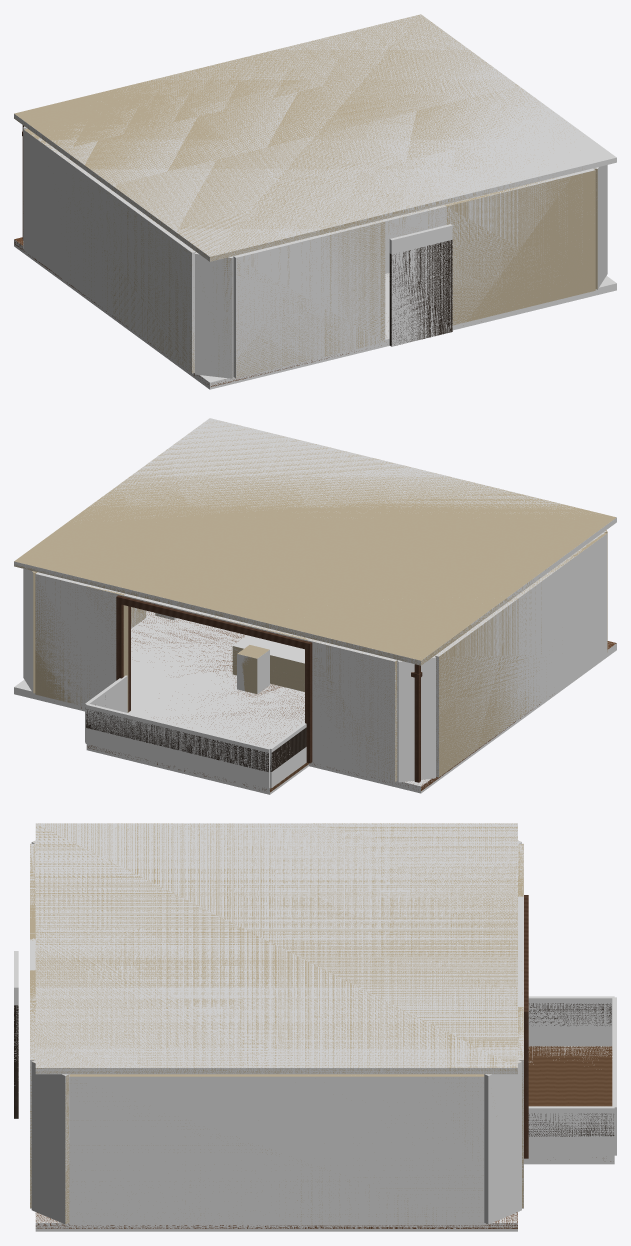
The model's file is corner.glb.
3 views of the same model, one above another, from view 1: azimuth 30°, elevation 25°; view 2: azimuth 150°, elevation 25°; view 3: azimuth 270°, elevation 25° (orthographic). The views are drawn at different scales.
Visible parts, largest first — view 1: COL_A07_roof, VIS_A07, VIS_A03, COL_A03_side, COL_A03_wall.002, COL_A03_wall.003, COL_A09_exit_boundary, COL_A03_chamfer.001, VIS_A09, COL_A01_floor, COL_A03_lintel.001, COL_A03_chamfer.003; view 2: VIS_A07, COL_A07_roof, COL_A03_side, COL_A01_floor, VIS_A03, COL_A03_wall, COL_A03_wall.001, COL_A14_guard, VIS_A12, VIS_A14, COL_A03_chamfer, COL_A13_terrace (+9 smaller); view 3: COL_A07_roof, VIS_A07, COL_A03_side.001, COL_A03_chamfer.003, COL_A03_chamfer.002, VIS_A13, COL_A14_guard.002, COL_A14_guard.001, VIS_A03, COL_A01_floor, VIS_A14, VIS_A01 (+7 smaller).
Part boxes in pixels (x1,y1,x2,y2): COL_A07_roof: [14, 14, 616, 261]; VIS_A07: [14, 14, 583, 261]; VIS_A03: [23, 128, 597, 377]; COL_A03_side: [23, 130, 195, 373]; COL_A03_wall.002: [233, 220, 385, 378]; COL_A03_wall.003: [445, 168, 595, 325]; COL_A09_exit_boundary: [389, 224, 452, 346]; COL_A03_chamfer.001: [195, 252, 233, 378]; VIS_A09: [389, 240, 452, 346]; COL_A01_floor: [14, 239, 616, 389]; COL_A03_lintel.001: [383, 205, 446, 249]; COL_A03_chamfer.003: [594, 165, 607, 289]; VIS_A07: [14, 421, 616, 665]; COL_A07_roof: [14, 418, 616, 665]; COL_A03_side: [435, 532, 607, 777]; COL_A01_floor: [14, 610, 616, 793]; VIS_A03: [32, 530, 607, 781]; COL_A03_wall: [306, 638, 397, 782]; COL_A03_wall.001: [35, 572, 125, 706]; COL_A14_guard: [85, 704, 269, 788]; VIS_A12: [116, 595, 422, 782]; VIS_A14: [85, 705, 306, 771]; COL_A03_chamfer: [397, 656, 435, 782]; COL_A13_terrace: [86, 744, 308, 794]; COL_A07_roof: [35, 823, 517, 1074]; VIS_A07: [35, 823, 517, 1073]; COL_A03_side.001: [69, 1074, 484, 1225]; COL_A03_chamfer.003: [31, 1060, 69, 1223]; COL_A03_chamfer.002: [484, 1060, 521, 1224]; VIS_A13: [528, 1046, 612, 1161]; COL_A14_guard.002: [528, 1106, 614, 1156]; COL_A14_guard.001: [528, 996, 614, 1046]; VIS_A03: [30, 840, 523, 1225]; COL_A01_floor: [35, 1212, 517, 1231]; VIS_A14: [528, 1003, 614, 1136]; VIS_A01: [35, 1212, 517, 1228].
Bounding box in the file's own units: 12.24 × 3.74 × 12.5.
18 materials, 14 textured.
